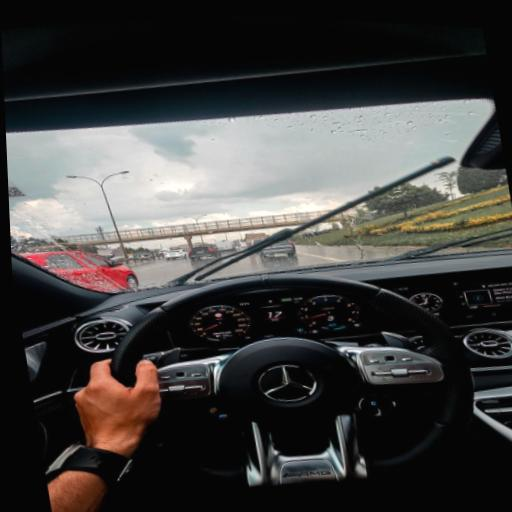Hands-on-the-Wheel: (37, 323, 218, 471)
